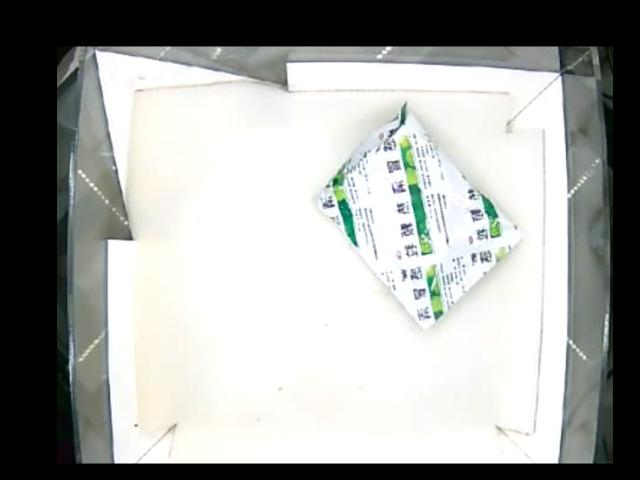Medicine: (316, 104, 526, 329)
